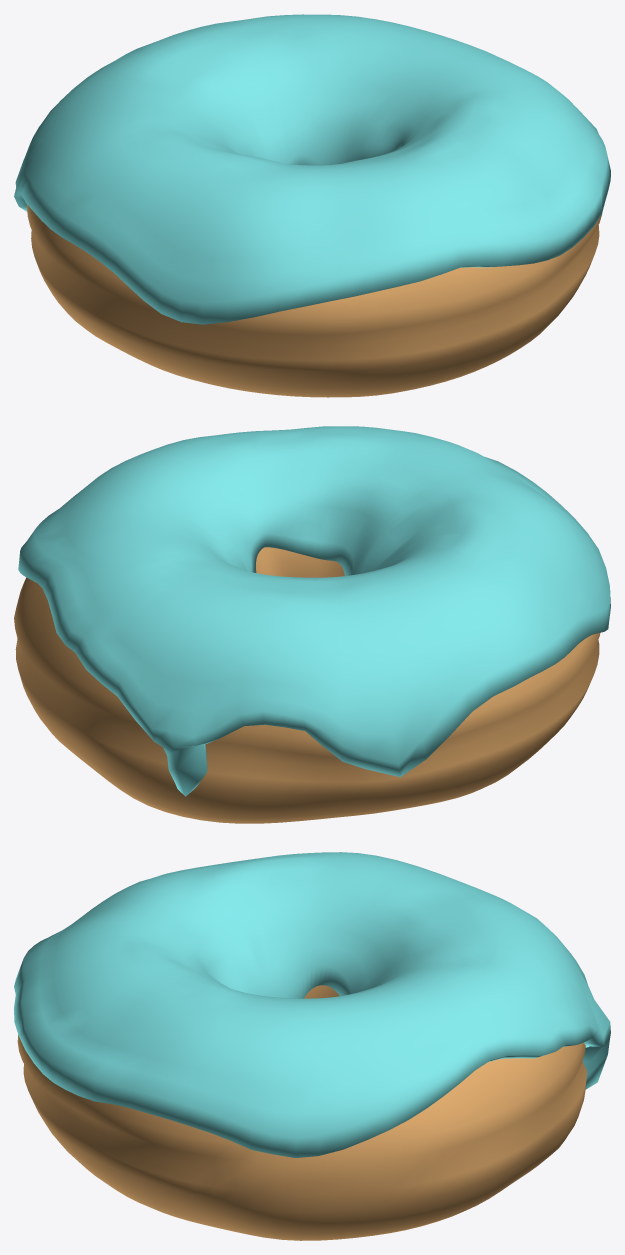
The model's file is Donut.glb.
3 views of the same model, one above another, from view 1: azimuth 30°, elevation 25°; view 2: azimuth 150°, elevation 25°; view 3: azimuth 270°, elevation 25° (orthographic). The views are drawn at different scales.
Visible parts, largest first — view 1: Icing, Donut; view 2: Icing, Donut; view 3: Icing, Donut.
Part boxes in pixels (<box>): Icing: <box>14,14,610,324</box>; Donut: <box>27,205,601,397</box>; Icing: <box>18,426,610,796</box>; Donut: <box>14,547,600,823</box>; Icing: <box>14,852,610,1157</box>; Donut: <box>17,985,587,1240</box>.
Size of what is drawn, in the model's own units: 0.1031 by 0.0436 by 0.1056.
